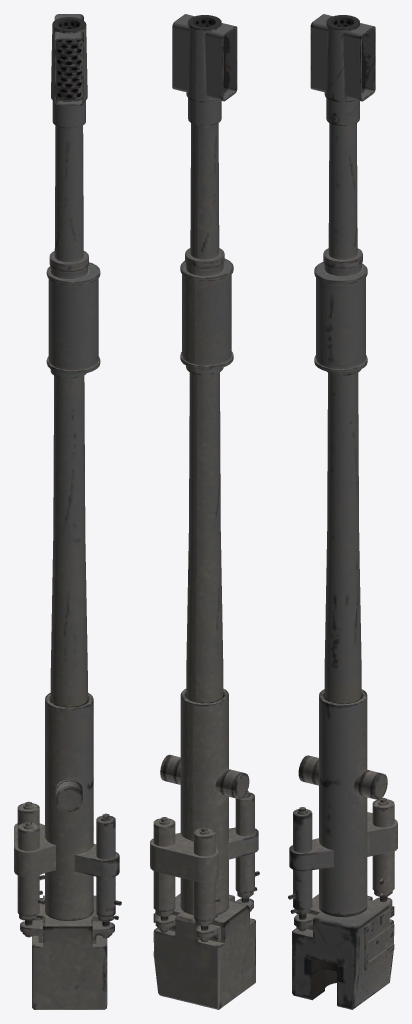
The model's file is Gun_01.glb.
3 renders of one model, left to right at view 1: azimuth 90°, elevation 25°; view 2: azimuth 150°, elevation 25°; view 3: azimuth 330°, elevation 25°, orthographic.
Visible parts, largest first — view 1: set_0_group_0; view 2: set_0_group_0; view 3: set_0_group_0.
Boxes of the visible parts, x1,y1,x2,y2 form: set_0_group_0: (14, 14, 121, 1009); set_0_group_0: (150, 14, 259, 1009); set_0_group_0: (288, 14, 397, 1009).
Bounding box in the file's own units: 0.4499 × 5.49 × 0.5524.
1 material, 1 textured.
